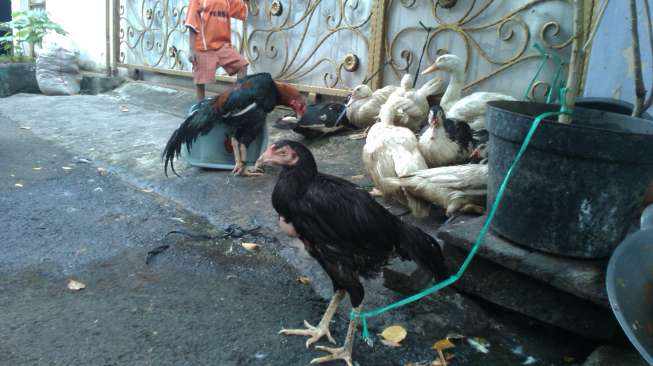ayam: (250, 138, 448, 366), (155, 67, 309, 163)
bebek: (337, 48, 516, 151)
